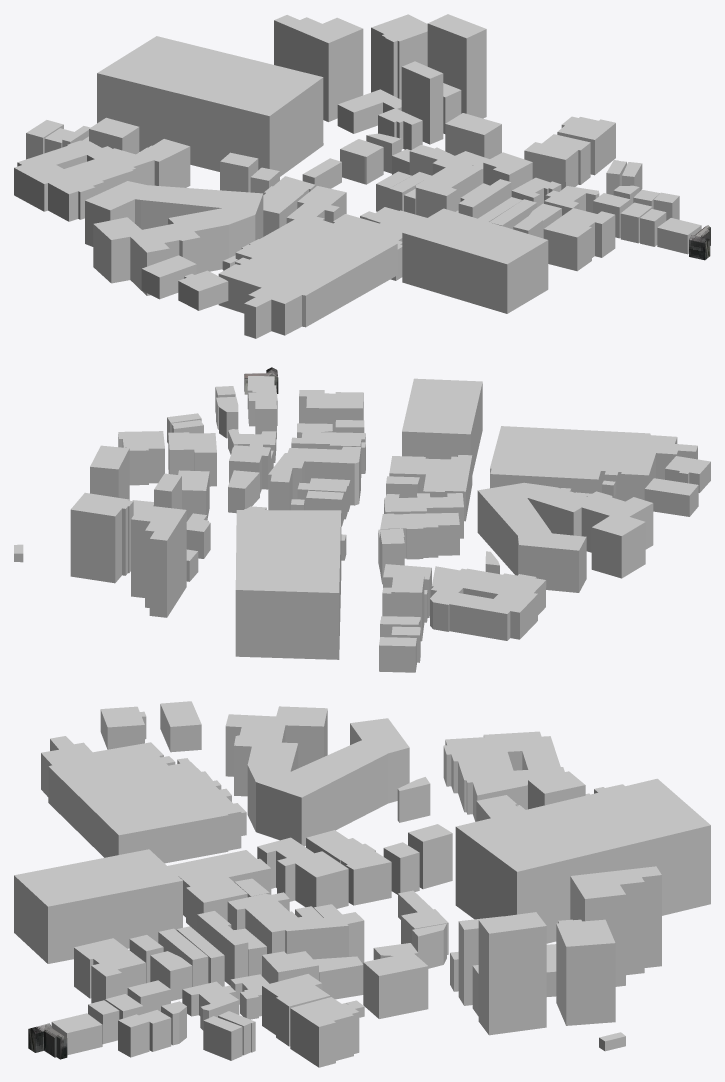
File: data483.glb
The picture shows the model from 3 angles, top to bottom: view 1: azimuth 30°, elevation 25°; view 2: azimuth 150°, elevation 25°; view 3: azimuth 270°, elevation 25°; orthographic projection. The views are drawn at different scales.
Size of the model in its own units: 193 by 31.36 by 190.
2 materials, 1 textured.
